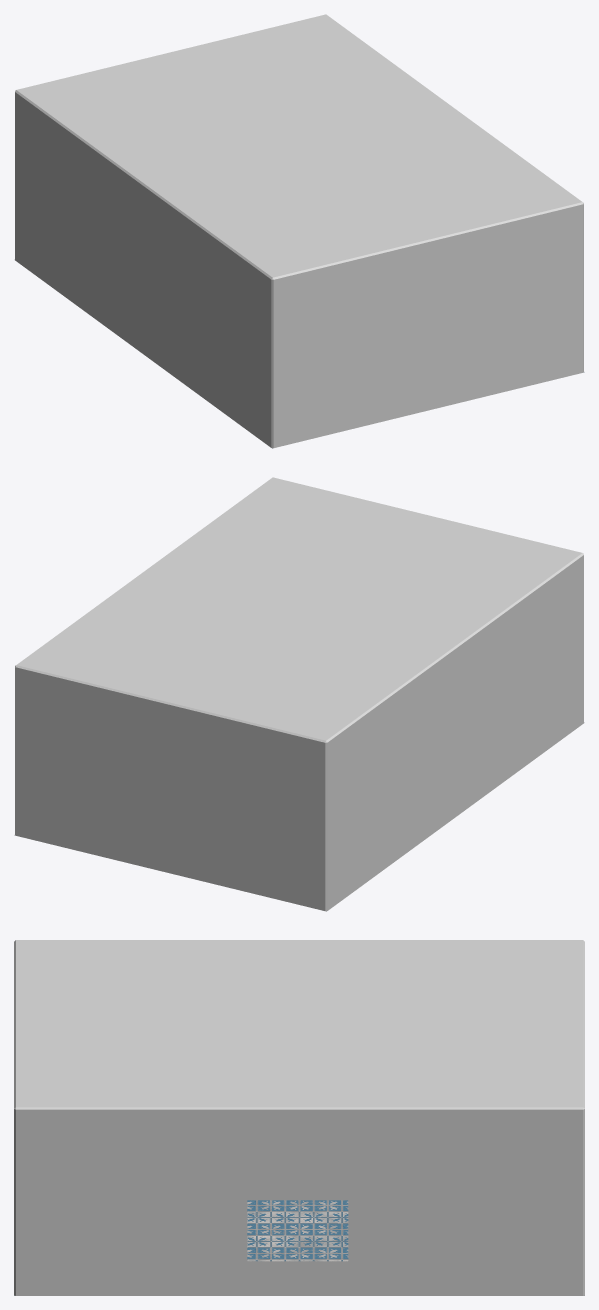
The model's file is Kitchen-1.fbx.
3 views of the same model, one above another, from view 1: azimuth 30°, elevation 25°; view 2: azimuth 150°, elevation 25°; view 3: azimuth 270°, elevation 25° (orthographic). The views are drawn at different scales.
Parts seen in each view (by area): view 1: Kitchen Room; view 2: Kitchen Room; view 3: Kitchen Room, Floor.
Boxes of the visible parts, x1,y1,x2,y2 form: Kitchen Room: (15,14,583,448); Kitchen Room: (15,477,583,911); Kitchen Room: (14,940,584,1295); Floor: (14,1200,584,1295).
Bounding box in the file's own units: 4.32 × 6.18 × 2.24.
